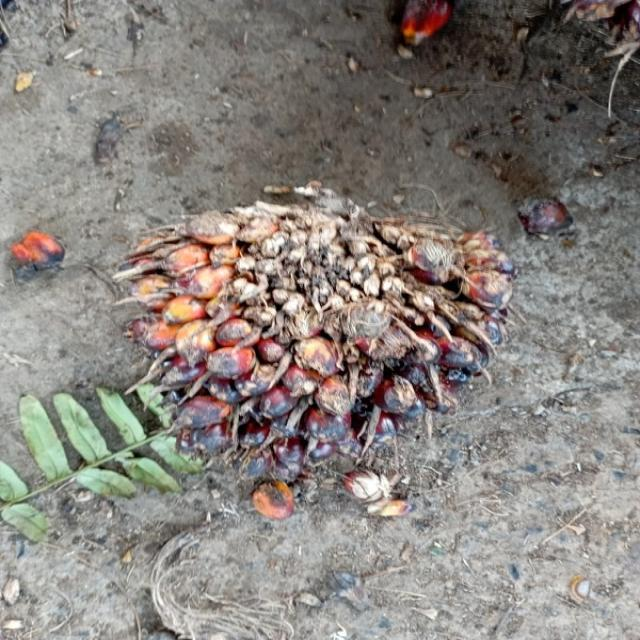fraksi 00: (125, 195, 513, 491)
